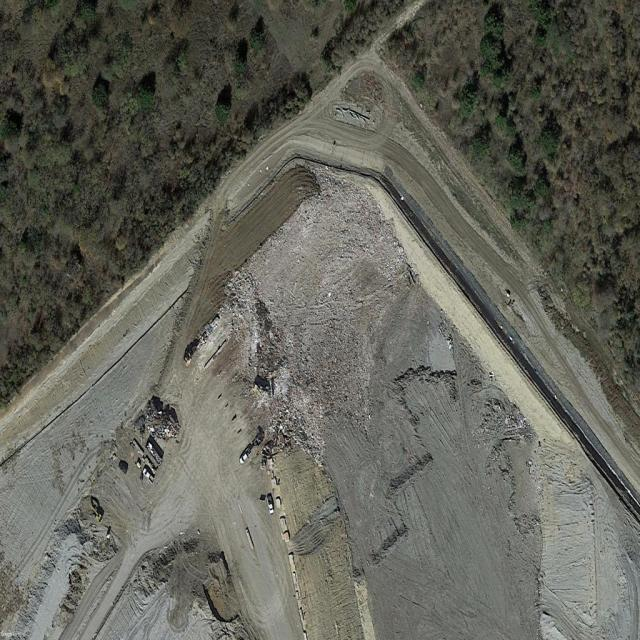dump_site: (141, 394, 183, 447)
